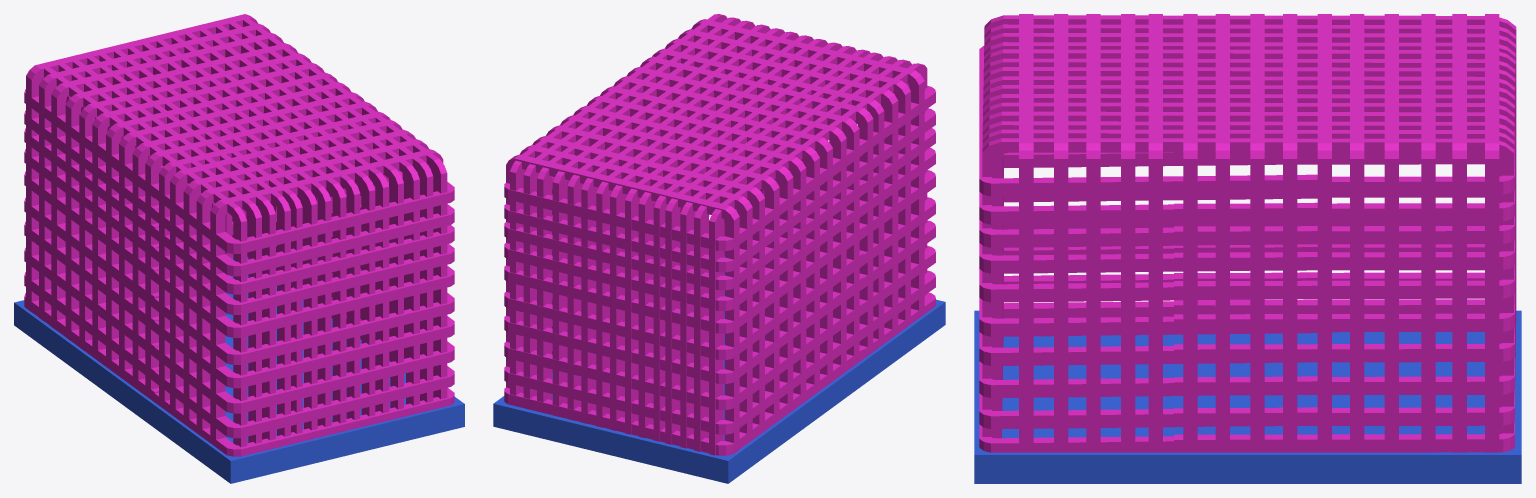
File: GGJ-Hamster-Cage.fbx
3 views of the same model, side by side, from view 1: azimuth 30°, elevation 25°; view 2: azimuth 150°, elevation 25°; view 3: azimuth 270°, elevation 25° (orthographic). The views are drawn at different scales.
Visible parts, largest first — view 1: Hamster-Cage; view 2: Hamster-Cage; view 3: Hamster-Cage.
Boxes of the visible parts, x1,y1,x2,y2 form: Hamster-Cage: [14, 14, 464, 483]; Hamster-Cage: [493, 14, 945, 483]; Hamster-Cage: [974, 14, 1521, 483].
Size of the model in its own units: 120 by 74.62 by 80.31.
